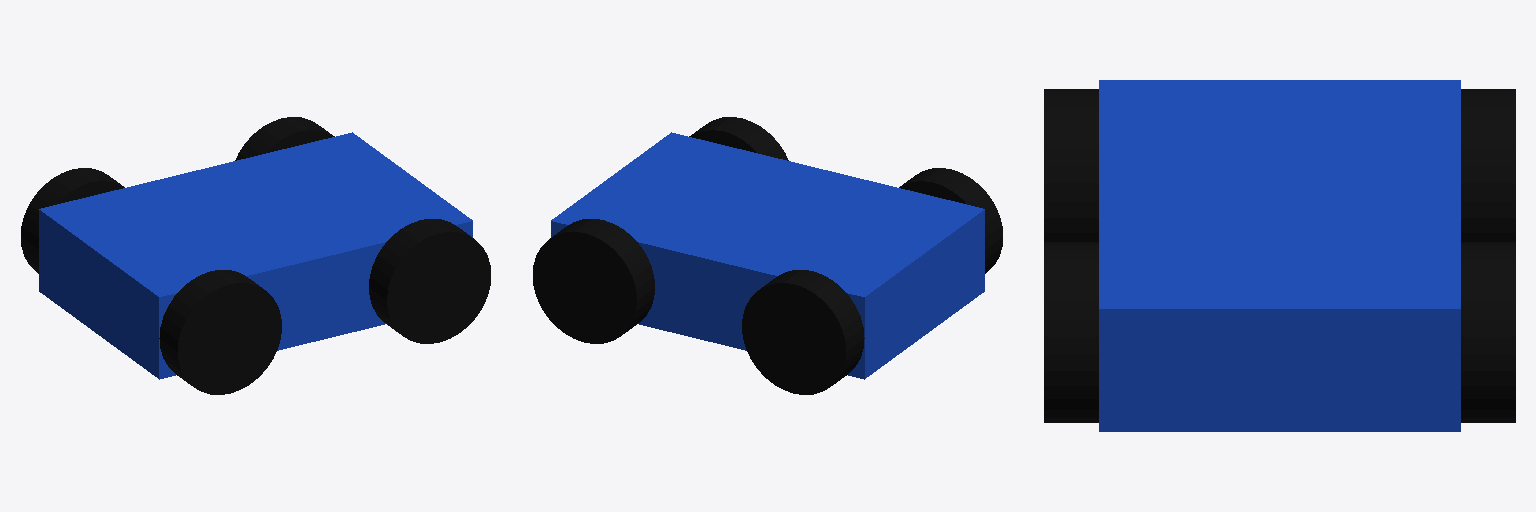
robot.urdf — rover:
<?xml version="1.0"?>
<robot name="rover">

  <material name="blue">
    <color rgba="0.15 0.35 0.8 1"/>
  </material>

  <material name="black">
    <color rgba="0.1 0.1 0.1 1"/>
  </material>

  <link name="base_link">
    <visual>
      <geometry>
        <box size="0.6 0.4 0.15"/>
      </geometry>
      <material name="blue"/>
    </visual>

    <collision>
      <geometry>
        <box size="0.6 0.4 0.15"/>
      </geometry>
    </collision>

    <inertial>
      <mass value="8.0"/>
      <inertia ixx="0.12" ixy="0" ixz="0"
               iyy="0.25" iyz="0" izz="0.35"/>
    </inertial>
  </link>

  <link name="front_left_wheel">
    <visual>
      <origin rpy="1.57079632679 0 0"/>
      <geometry>
        <cylinder radius="0.1" length="0.06"/>
      </geometry>
      <material name="black"/>
    </visual>

    <collision>
      <origin rpy="1.57079632679 0 0"/>
      <geometry>
        <cylinder radius="0.1" length="0.06"/>
      </geometry>
    </collision>

    <inertial>
      <mass value="0.6"/>
      <inertia ixx="0.00168" ixy="0" ixz="0"
               iyy="0.003" iyz="0" izz="0.00168"/>
    </inertial>
  </link>

  <joint name="front_left_joint" type="continuous">
    <parent link="base_link"/>
    <child link="front_left_wheel"/>
    <origin xyz="0.2 0.23 0"/>
    <axis xyz="0 1 0"/>
    <dynamics damping="0.05" friction="0"/>
  </joint>

  <link name="front_right_wheel">
    <visual>
      <origin rpy="1.57079632679 0 0"/>
      <geometry>
        <cylinder radius="0.1" length="0.06"/>
      </geometry>
      <material name="black"/>
    </visual>

    <collision>
      <origin rpy="1.57079632679 0 0"/>
      <geometry>
        <cylinder radius="0.1" length="0.06"/>
      </geometry>
    </collision>

    <inertial>
      <mass value="0.6"/>
      <inertia ixx="0.00168" ixy="0" ixz="0"
               iyy="0.003" iyz="0" izz="0.00168"/>
    </inertial>
  </link>

  <joint name="front_right_joint" type="continuous">
    <parent link="base_link"/>
    <child link="front_right_wheel"/>
    <origin xyz="0.2 -0.23 0"/>
    <axis xyz="0 1 0"/>
    <dynamics damping="0.05" friction="0"/>
  </joint>

  <link name="rear_left_wheel">
    <visual>
      <origin rpy="1.57079632679 0 0"/>
      <geometry>
        <cylinder radius="0.1" length="0.06"/>
      </geometry>
      <material name="black"/>
    </visual>

    <collision>
      <origin rpy="1.57079632679 0 0"/>
      <geometry>
        <cylinder radius="0.1" length="0.06"/>
      </geometry>
    </collision>

    <inertial>
      <mass value="0.6"/>
      <inertia ixx="0.00168" ixy="0" ixz="0"
               iyy="0.003" iyz="0" izz="0.00168"/>
    </inertial>
  </link>

  <joint name="rear_left_joint" type="continuous">
    <parent link="base_link"/>
    <child link="rear_left_wheel"/>
    <origin xyz="-0.2 0.23 0"/>
    <axis xyz="0 1 0"/>
    <dynamics damping="0.05" friction="0"/>
  </joint>

  <link name="rear_right_wheel">
    <visual>
      <origin rpy="1.57079632679 0 0"/>
      <geometry>
        <cylinder radius="0.1" length="0.06"/>
      </geometry>
      <material name="black"/>
    </visual>

    <collision>
      <origin rpy="1.57079632679 0 0"/>
      <geometry>
        <cylinder radius="0.1" length="0.06"/>
      </geometry>
    </collision>

    <inertial>
      <mass value="0.6"/>
      <inertia ixx="0.00168" ixy="0" ixz="0"
               iyy="0.003" iyz="0" izz="0.00168"/>
    </inertial>
  </link>

  <joint name="rear_right_joint" type="continuous">
    <parent link="base_link"/>
    <child link="rear_right_wheel"/>
    <origin xyz="-0.2 -0.23 0"/>
    <axis xyz="0 1 0"/>
    <dynamics damping="0.05" friction="0"/>
  </joint>
</robot>

--- Render facts (derived) ---
The picture shows the robot from 3 angles, left to right: view 1: azimuth 30°, elevation 25°; view 2: azimuth 150°, elevation 25°; view 3: azimuth 270°, elevation 25°; orthographic projection.
Robot: rover — 5 links, 4 joints (4 continuous); root link base_link; default pose: all joints at 0.
Links seen in each view (by area): view 1: base_link, front_right_wheel, rear_right_wheel, rear_left_wheel, front_left_wheel; view 2: base_link, front_left_wheel, rear_left_wheel, rear_right_wheel, front_right_wheel; view 3: base_link, front_left_wheel, front_right_wheel, rear_left_wheel, rear_right_wheel.
Boxes of the visible links, x1,y1,x2,y2 form: base_link: (39, 132, 472, 379); front_right_wheel: (369, 219, 490, 343); rear_right_wheel: (159, 270, 281, 394); rear_left_wheel: (21, 168, 124, 273); front_left_wheel: (235, 117, 334, 160); base_link: (551, 132, 984, 379); front_left_wheel: (533, 219, 654, 343); rear_left_wheel: (742, 270, 864, 394); rear_right_wheel: (899, 168, 1002, 273); front_right_wheel: (689, 117, 788, 160); base_link: (1099, 80, 1460, 431); front_left_wheel: (1461, 242, 1515, 422); front_right_wheel: (1044, 242, 1098, 422); rear_left_wheel: (1461, 89, 1515, 241); rear_right_wheel: (1044, 89, 1098, 241).
Bounding box of the posed robot: 0.6 × 0.52 × 0.2 m (x, y, z).
Geometry: primitives only (box / cylinder / sphere), no mesh files.
